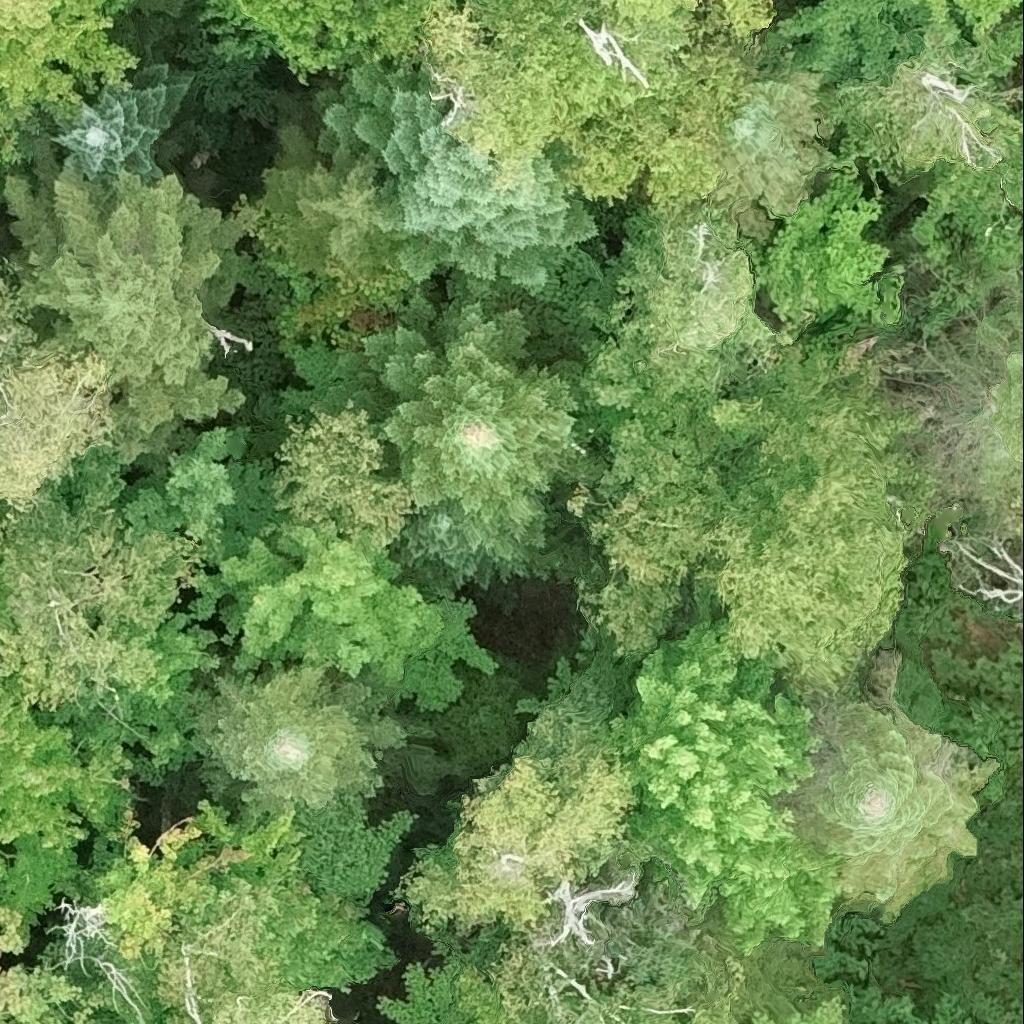crown: (402, 697, 752, 1023), (565, 411, 928, 711), (5, 132, 268, 462), (40, 795, 413, 1023), (589, 621, 840, 949), (389, 0, 776, 204), (188, 457, 495, 712), (0, 615, 219, 920), (356, 294, 580, 590), (767, 650, 1000, 922), (579, 181, 777, 405), (0, 494, 202, 709), (390, 126, 598, 311), (722, 331, 934, 497), (576, 348, 780, 502), (193, 667, 403, 816), (156, 877, 330, 1023), (267, 395, 418, 543), (259, 123, 394, 287), (711, 70, 836, 244), (0, 335, 120, 513), (201, 0, 437, 82), (0, 18, 134, 161), (45, 64, 196, 184), (326, 58, 452, 176), (0, 903, 109, 1023), (981, 305, 1023, 473), (734, 987, 861, 1023), (0, 0, 111, 32), (0, 279, 35, 371), (948, 0, 1023, 31), (97, 0, 126, 23), (0, 576, 10, 627)
